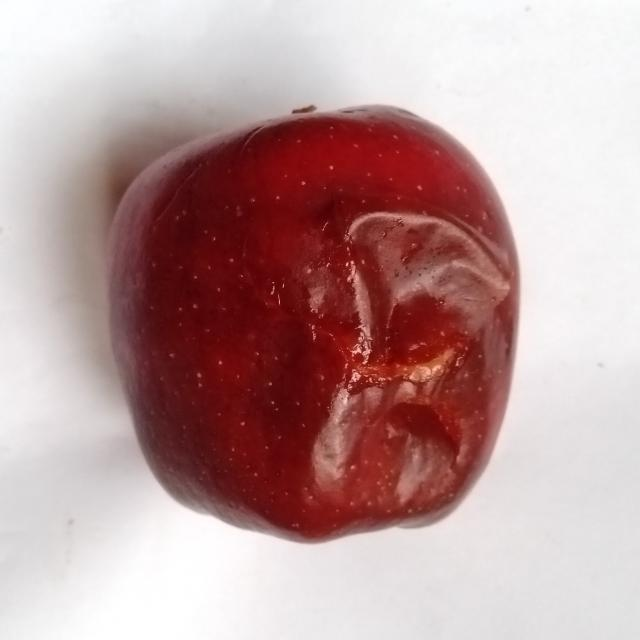apple: (110, 107, 518, 540)
